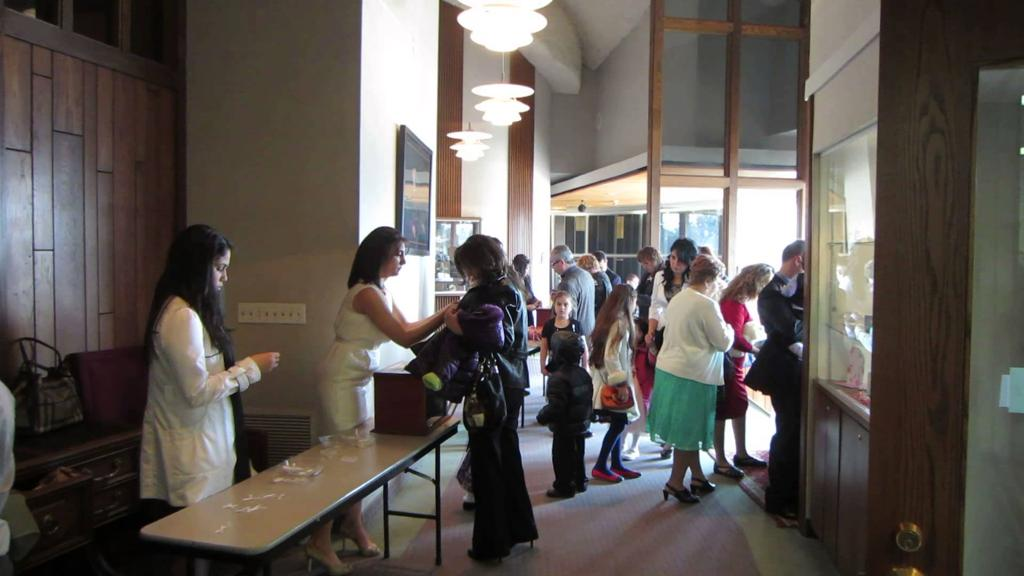face: (200, 255, 229, 294), (383, 245, 405, 275), (669, 250, 688, 272), (554, 297, 570, 315), (640, 257, 655, 271)
